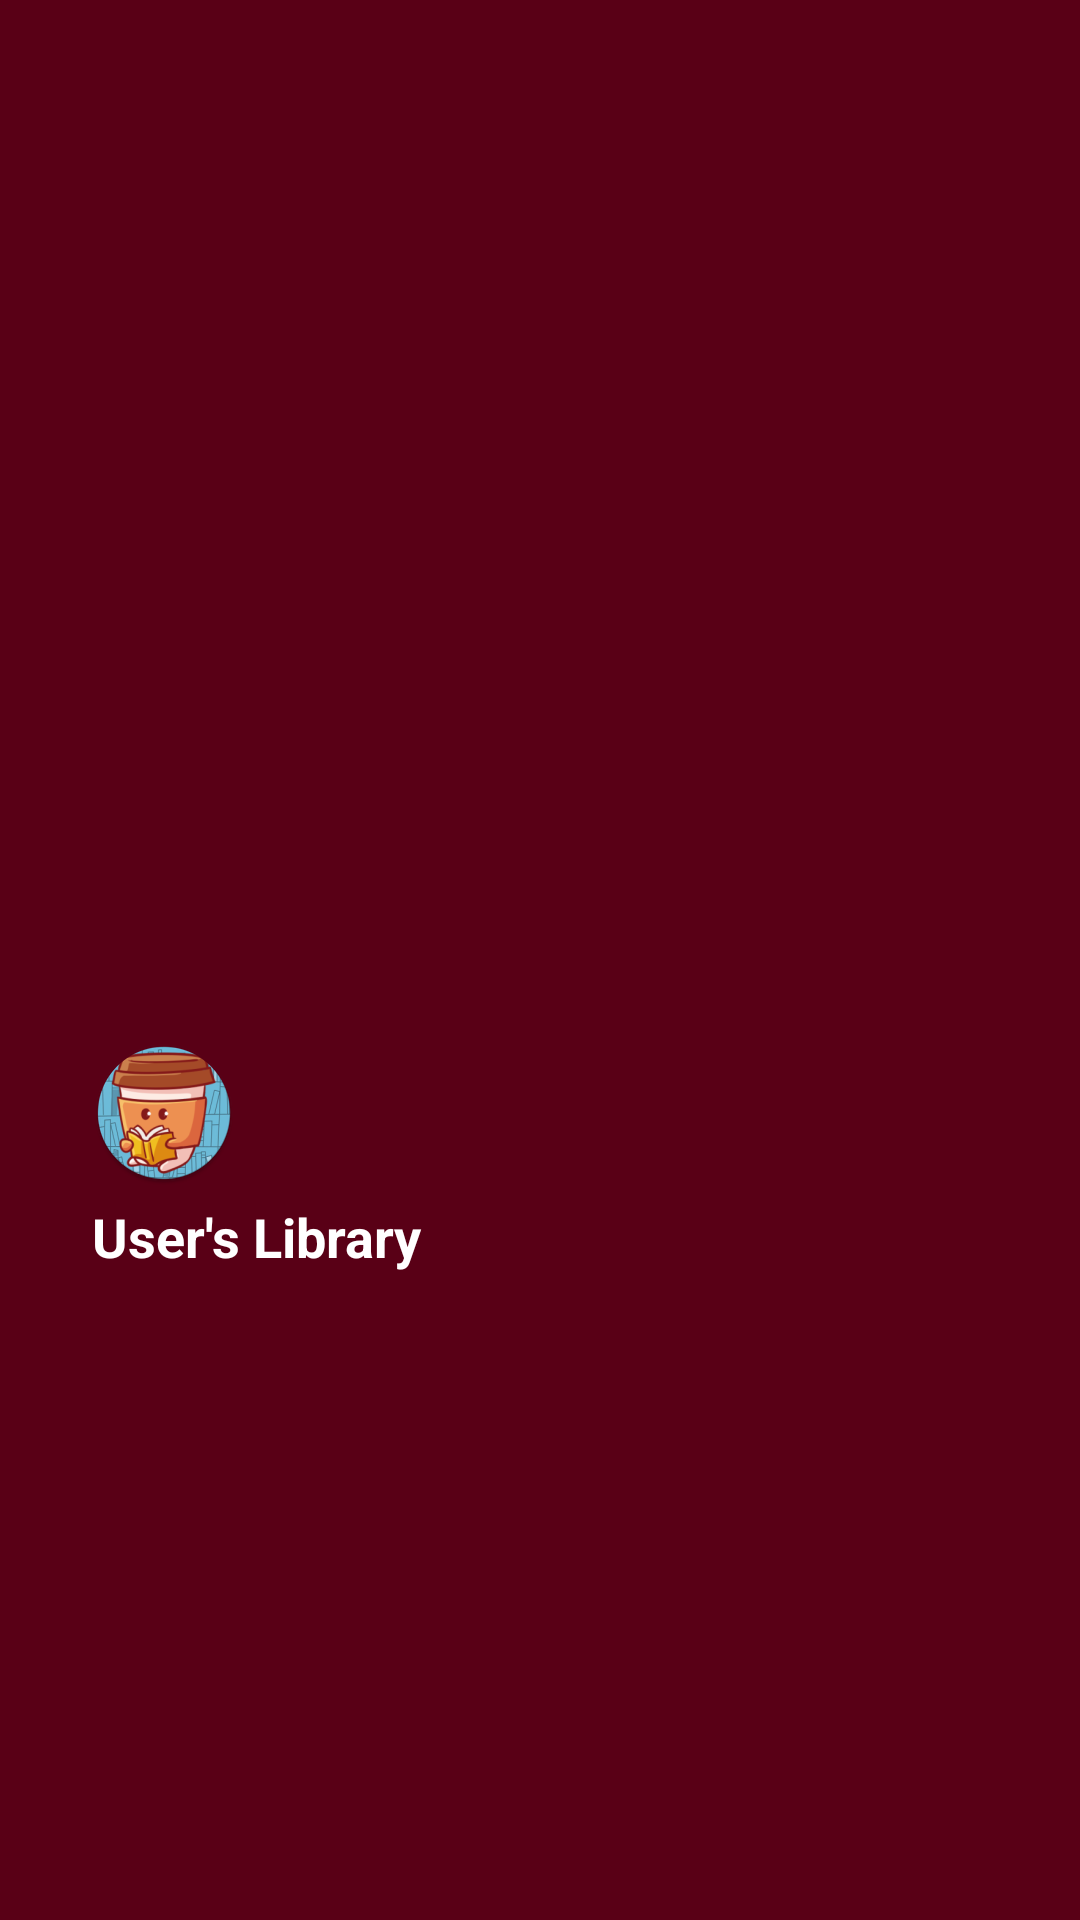

Where to tap for icons on this 1080x1920 app screen, as (x=x, y=y):
profile round: (x=164, y=1112)
